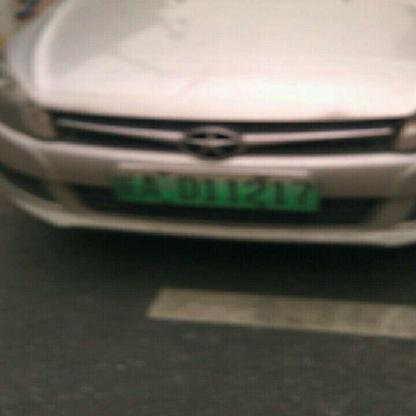lp: (107, 170, 318, 211)
